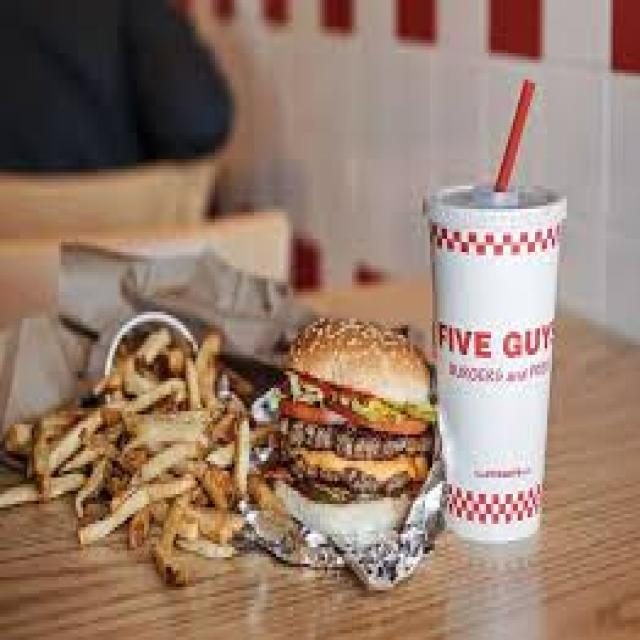Burger: (274, 305, 428, 521)
French Fries: (5, 318, 266, 574)
